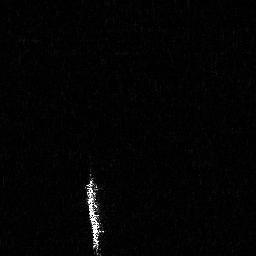ship: (81, 164, 109, 256)
